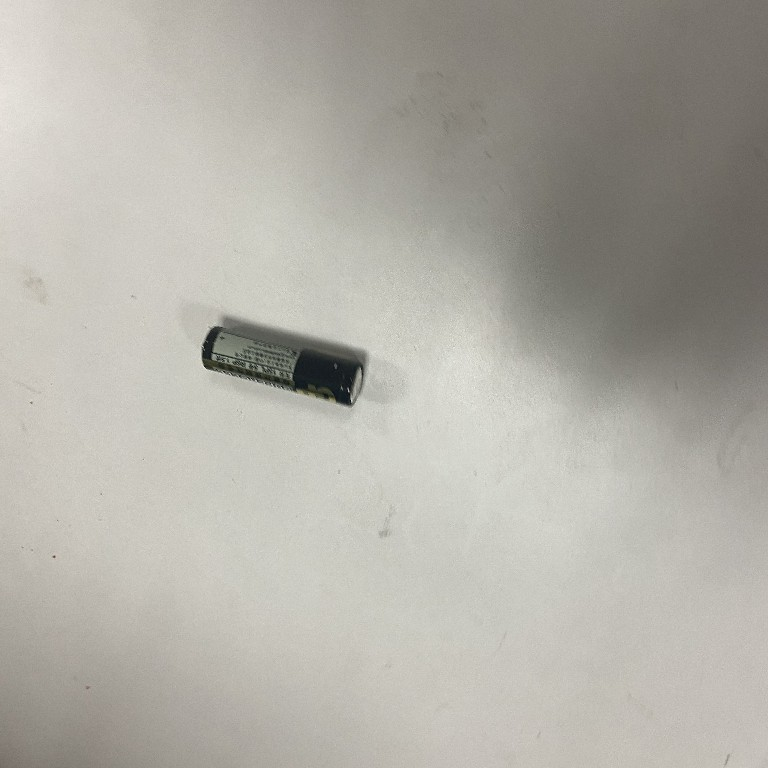charge: (198, 325, 368, 411)
